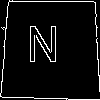N: (26, 25, 60, 72)
